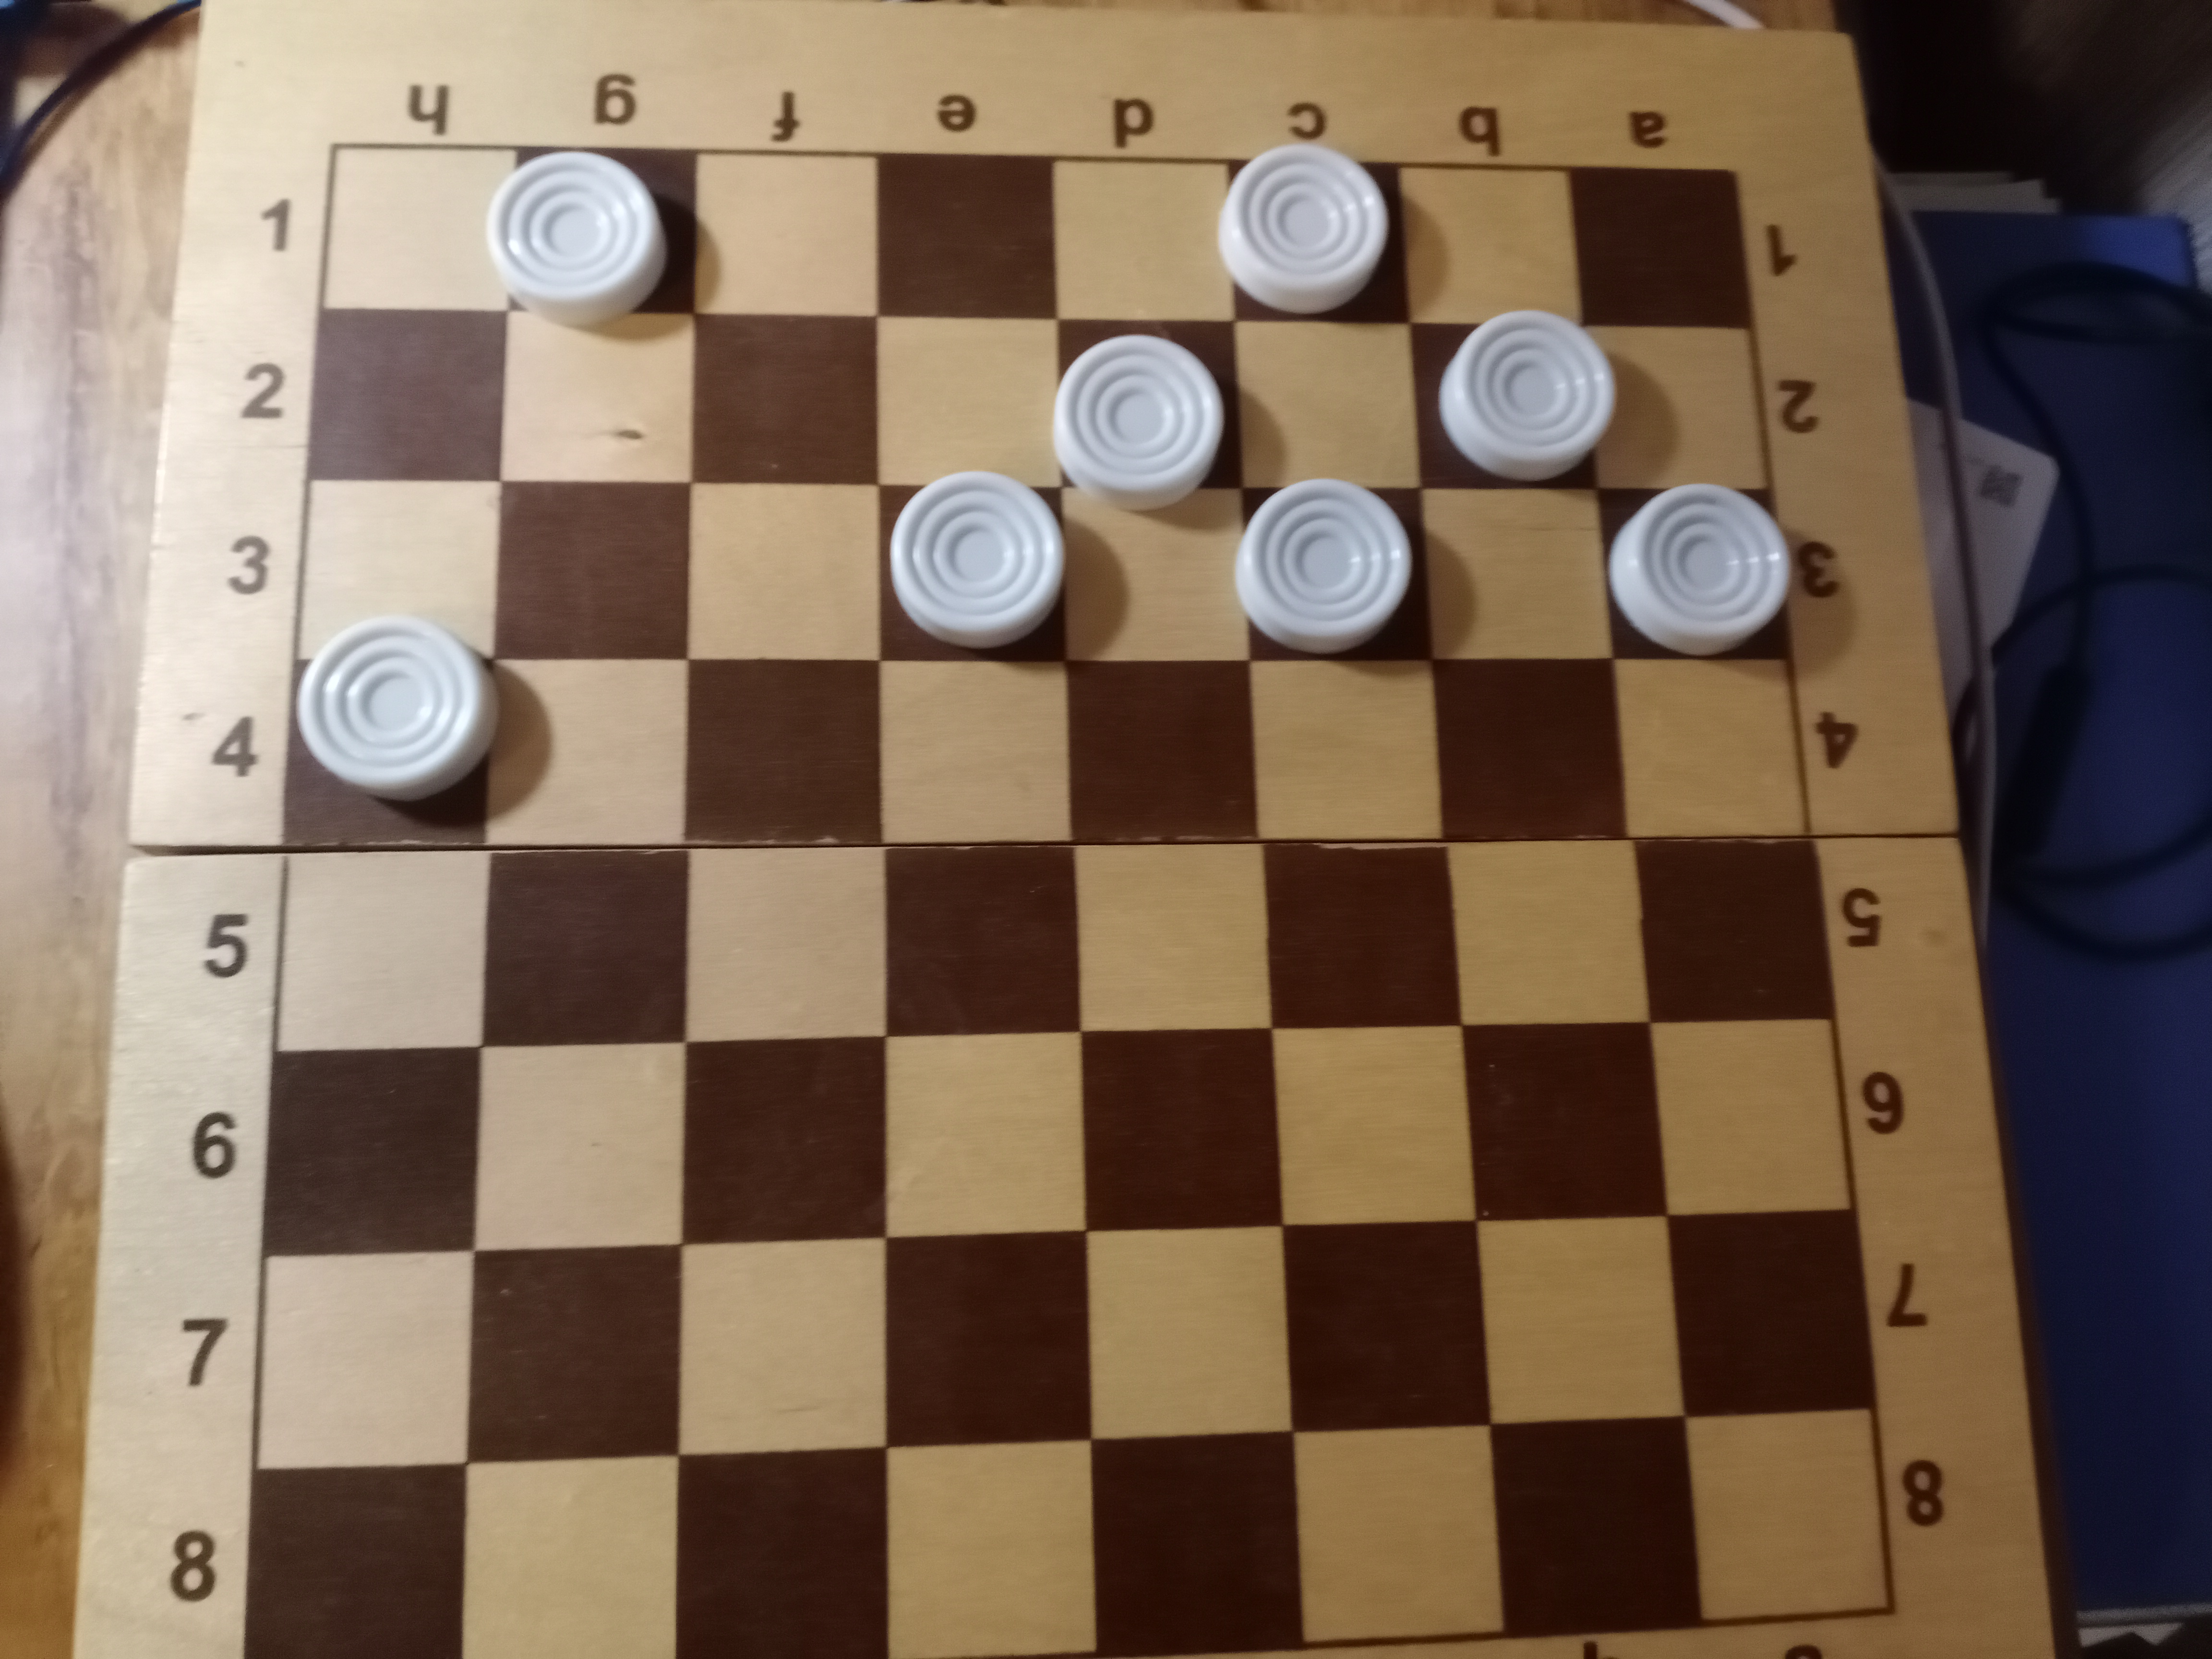White_Draught: (284, 613, 500, 845), (484, 148, 697, 326), (1409, 310, 1618, 490), (1050, 317, 1240, 514), (880, 469, 1068, 664), (1235, 479, 1432, 664), (1594, 484, 1792, 659), (1219, 143, 1411, 322)
